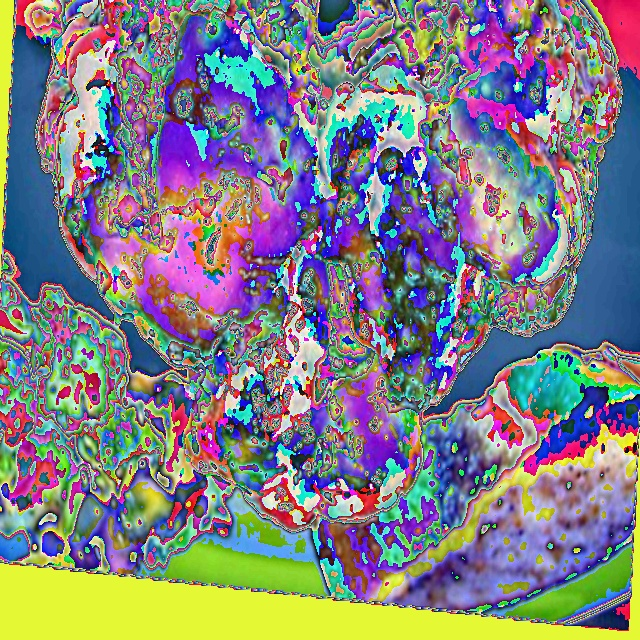background: (0, 0, 640, 615)
